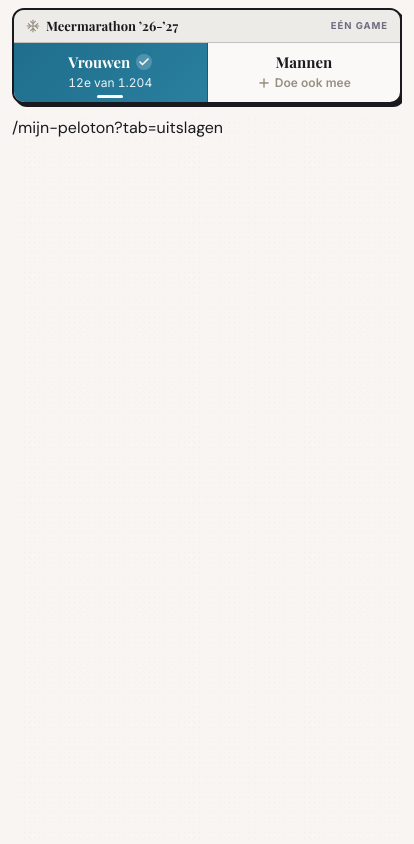
Test: pelotonbalk met data › wisselt van peloton en houdt je tab vast
This screenshot has width=414, height=844.
Click the button "Mannen Doe ook mee": (304, 72) 208,42 -> 400,102
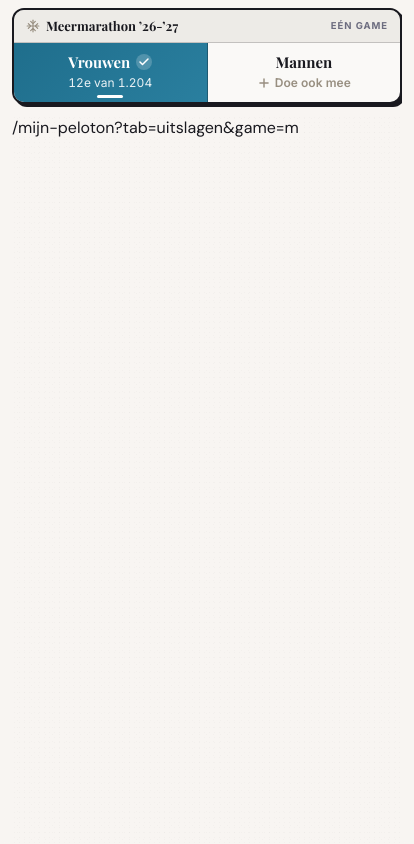
Expected: the text with test id "adres" reads "/mijn-peloton?tab=uitslagen&game=m", 12,117 -> 299,138
